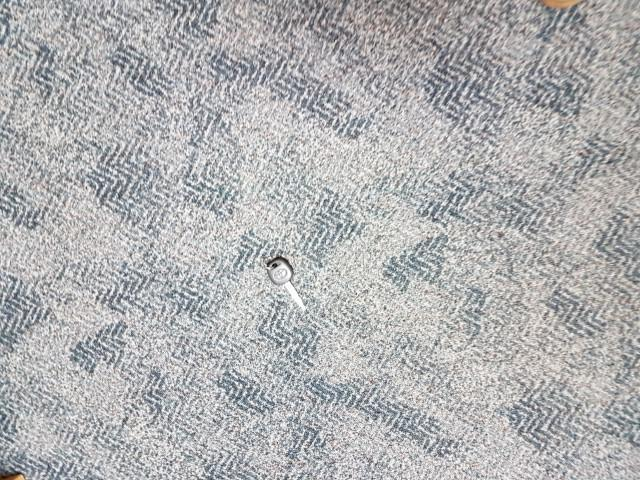key: (267, 257, 308, 310)
